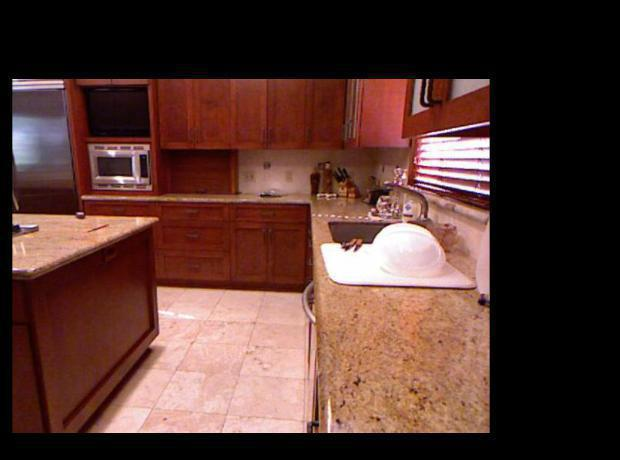Lavaplatos: (327, 171, 434, 252)
